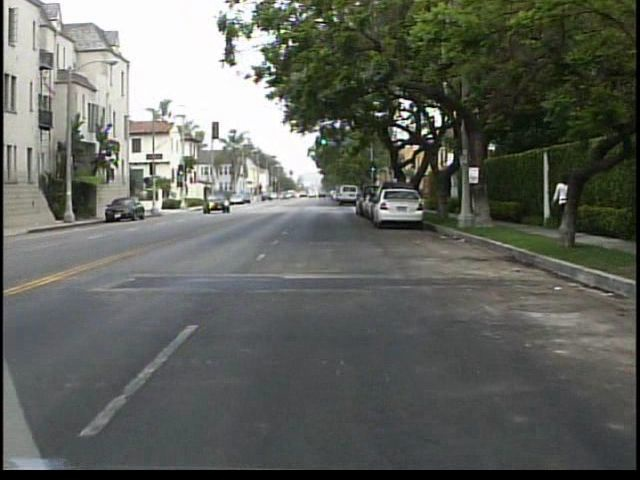person: (544, 167, 581, 249)
